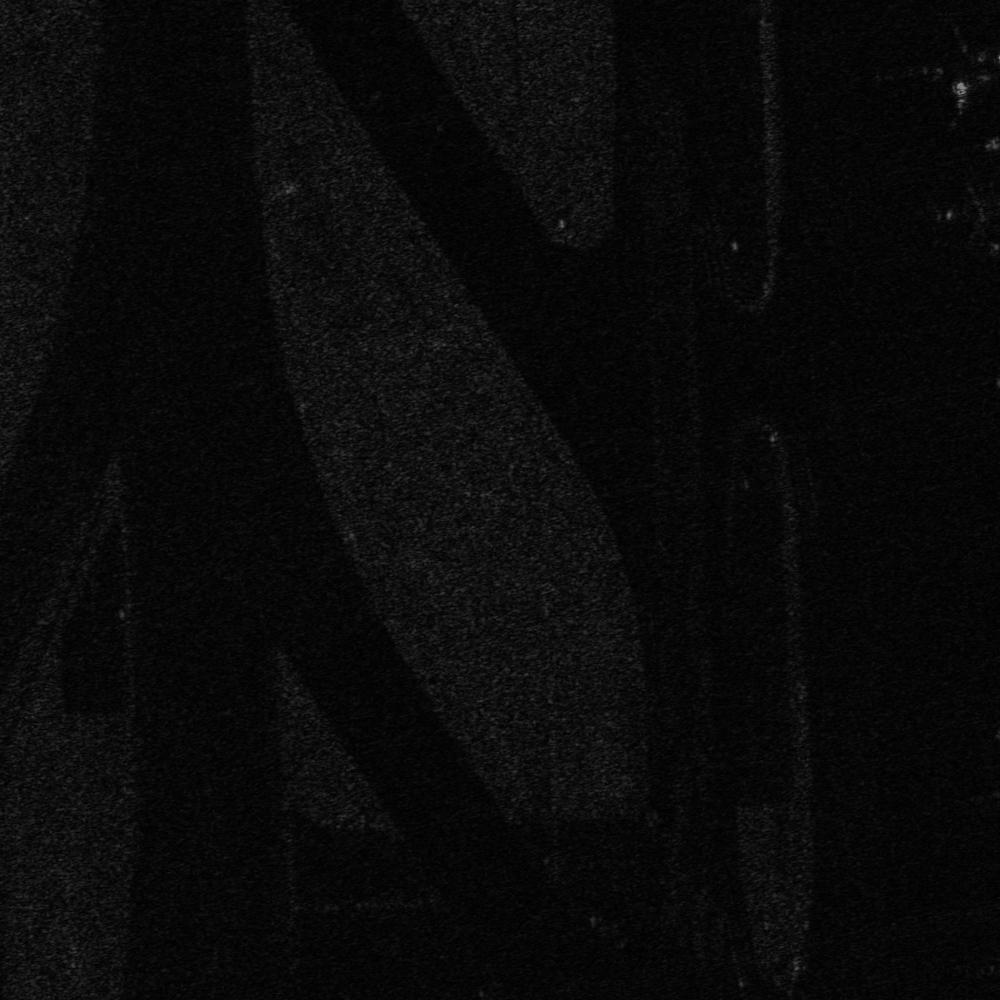ARJ21: (912, 11, 999, 120)
